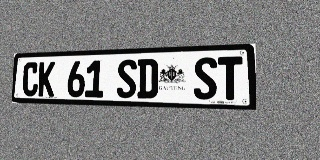1: (85, 60, 104, 98)
6: (67, 61, 85, 97)
C: (22, 62, 39, 96)
D: (137, 59, 158, 99)
K: (38, 62, 55, 97)
S: (194, 57, 217, 100), (117, 59, 137, 98)
T: (218, 56, 243, 100)
